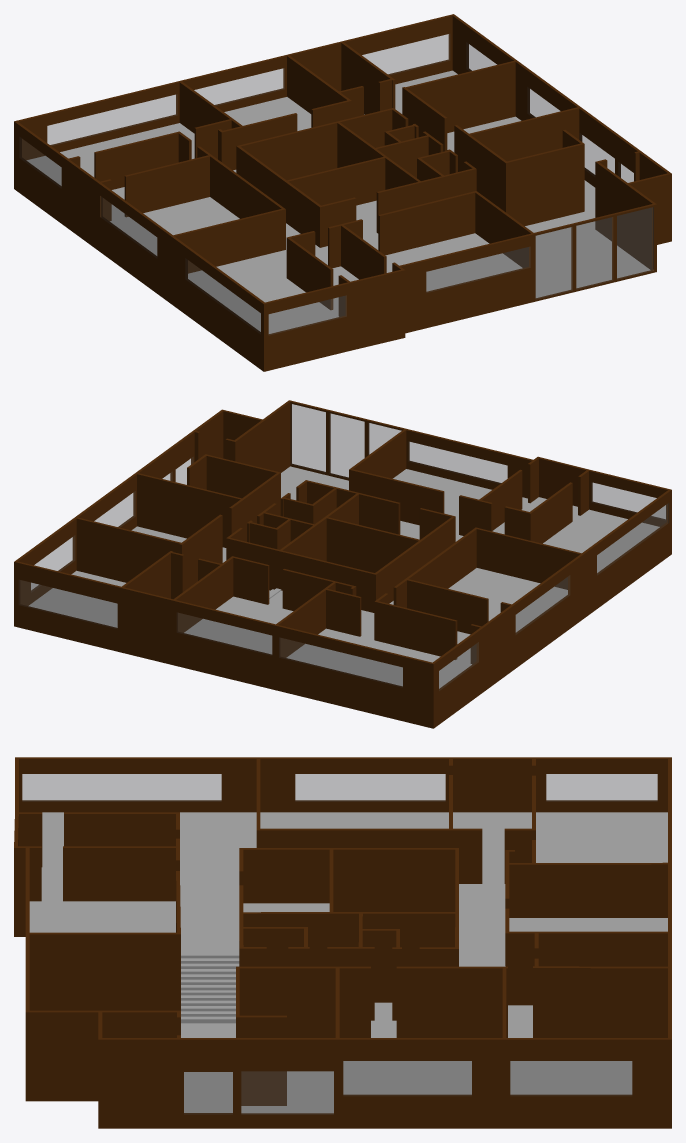
3 renders of one model, top to bottom at view 1: azimuth 30°, elevation 25°; view 2: azimuth 150°, elevation 25°; view 3: azimuth 270°, elevation 25°, orthographic. The views are drawn at different scales.
Parts seen in each view (by area): view 1: Plane.028, Plane.014, Plane.015, Plane.013; view 2: Plane.028, Plane.014, Plane.013, Plane.015; view 3: Plane.028, Plane.014, Plane.013, Plane.015, Cube.
Part boxes in pixels (left/top/right/bottom): Plane.028: left=14, top=14, right=671, bottom=371; Plane.014: left=26, top=97, right=522, bottom=333; Plane.015: left=525, top=180, right=650, bottom=297; Plane.013: left=364, top=70, right=521, bottom=152; Plane.028: left=14, top=400, right=671, bottom=728; Plane.014: left=184, top=469, right=659, bottom=688; Plane.013: left=29, top=526, right=226, bottom=627; Plane.015: left=281, top=466, right=348, bottom=500; Plane.028: left=14, top=757, right=671, bottom=1128; Plane.014: left=29, top=812, right=667, bottom=965; Plane.013: left=343, top=1002, right=632, bottom=1094; Plane.015: left=181, top=1023, right=333, bottom=1113; Cube: left=181, top=952, right=239, bottom=1023.
Size of the model in its own units: 34 by 5.01 by 33.51.
